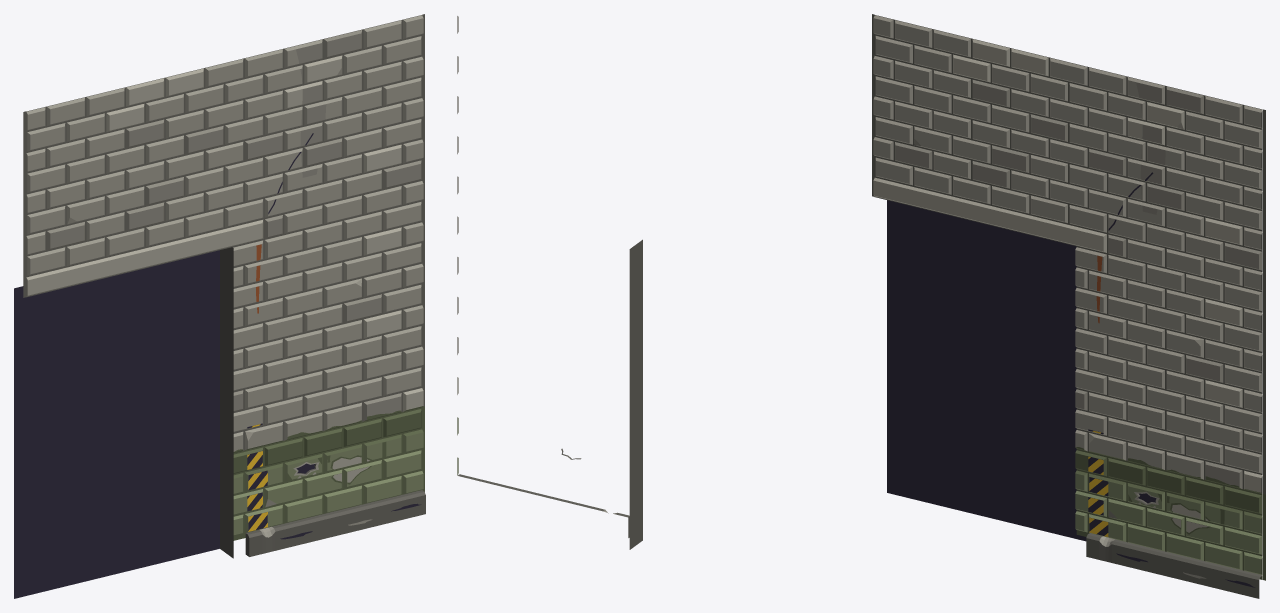
The model's file is wall_panel_door.glb.
3 renders of one model, left to right at view 1: azimuth 30°, elevation 25°; view 2: azimuth 150°, elevation 25°; view 3: azimuth 330°, elevation 25°, orthographic. The views are drawn at different scales.
Parts seen in each view (by area): view 1: Wall; view 2: Wall; view 3: Wall.
Boxes of the visible parts, x1=… form: Wall: x1=14, y1=14, x2=425, y2=598; Wall: x1=457, y1=16, x2=642, y2=549; Wall: x1=872, y1=14, x2=1265, y2=598.
Size of the model in its own units: 5.08 by 6 by 0.3525.
